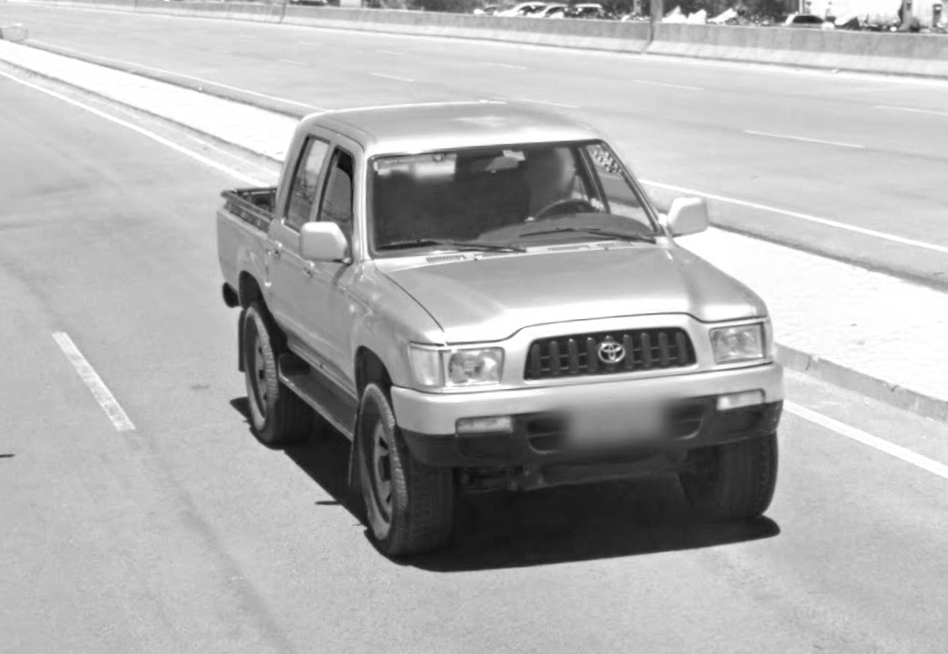car: (208, 92, 784, 572)
